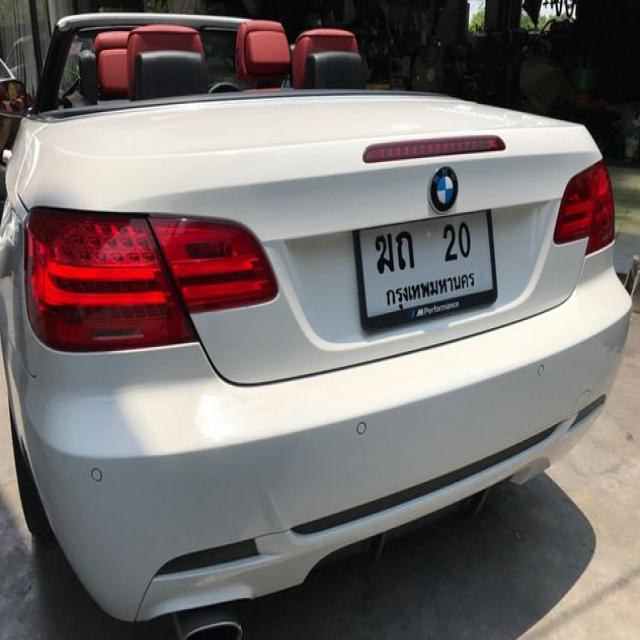license_plate: (353, 202, 502, 339)
